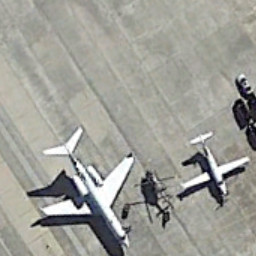Airplane: (24, 125, 141, 256), (177, 129, 252, 210)
